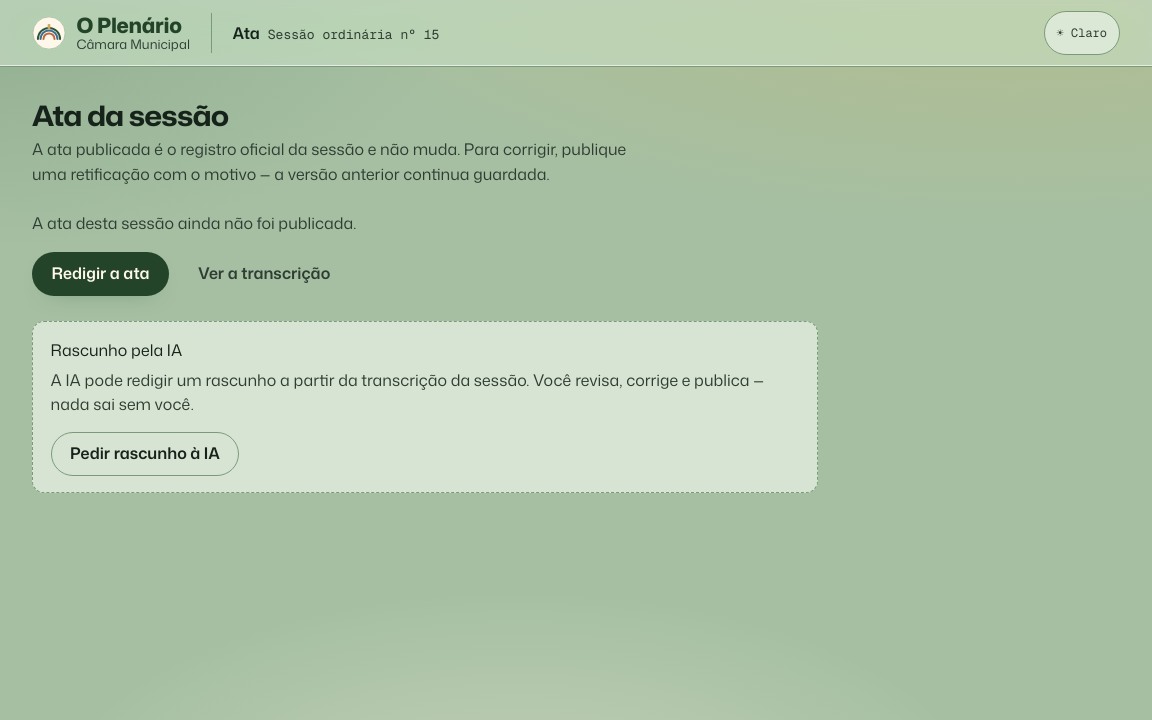
Test: PaginaAta › pedido recusado mostra a razão do servidor
What coordinates should you click on to do the following:
click the button "Pedir rascunho à IA"
I would click on:
 (145, 454)
Its box is [51,432,239,476].
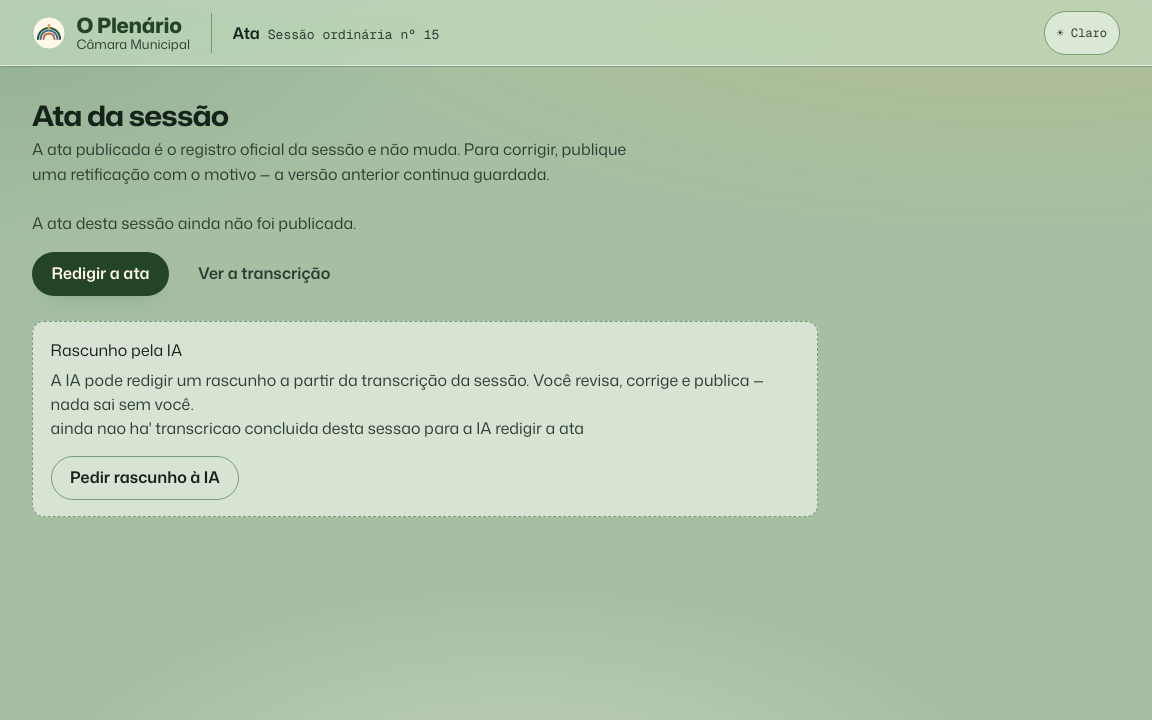
Expected: the message shows "transcricao concluida", [51,417,584,439]
